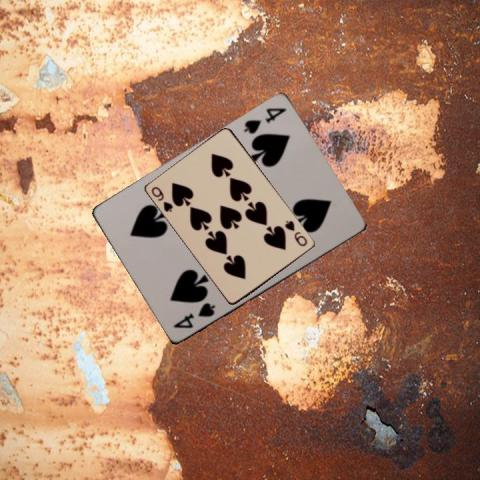4s: (170, 299, 217, 331), (241, 105, 288, 136)
9s: (282, 217, 309, 248), (148, 184, 175, 214)
